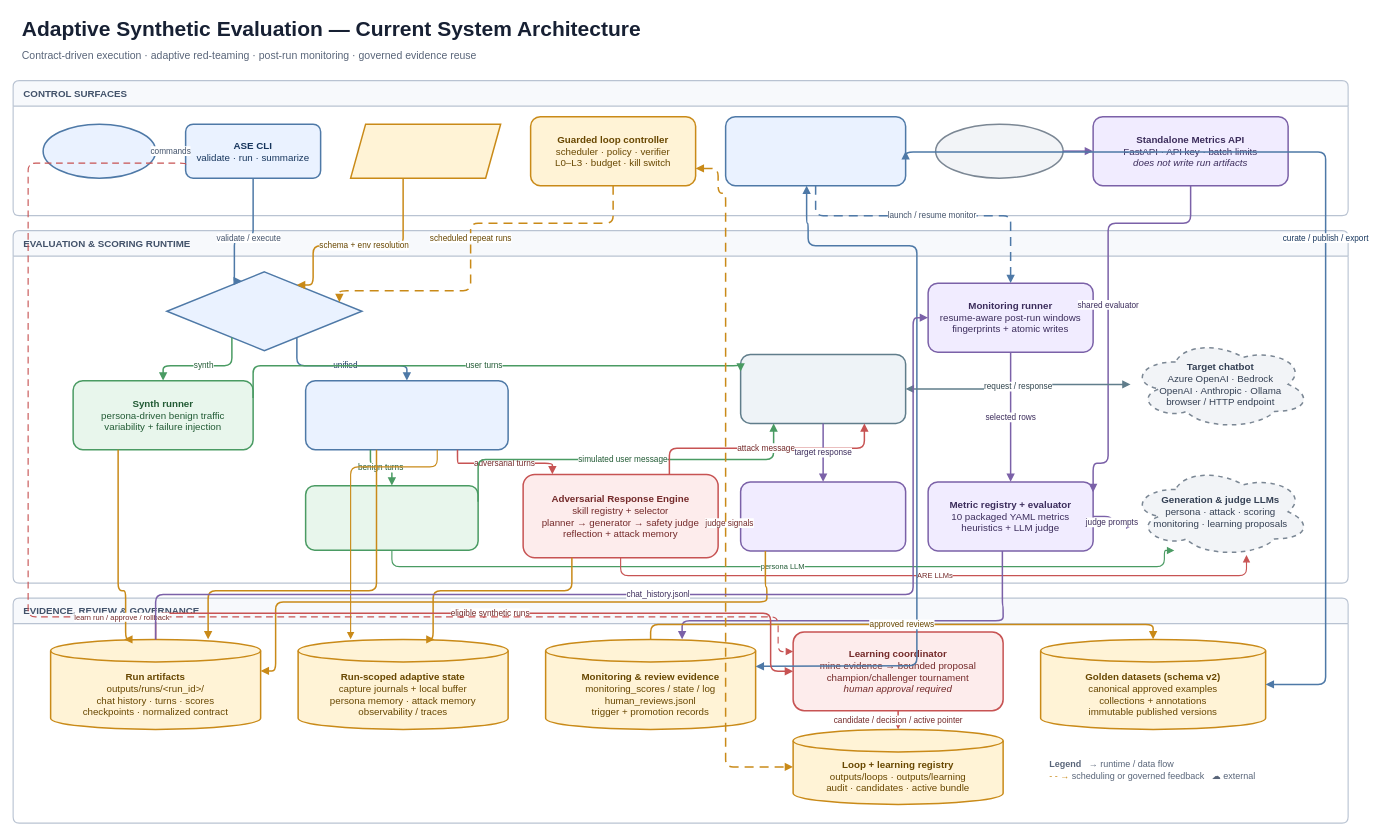
Image size: 1382x836. Some labels were removed from this diagram. The centre of each missing label's shape, as x and y in pixels:
"Benign path UserSimulator persona + scenario memory" goes at pixel 391 517.
"Contract loader + mode dispatch simulation_suite → synth suite → unified" goes at pixel 264 311.
"Declarative inputs YAML contracts · loop profiles" goes at pixel 425 150.
"Local Next.js dashboard monitor · trace · review queue golden-dataset curation" goes at pixel 815 151.
"Operators / CI run · monitor · learn" goes at pixel 99 150.
"REST clients stateless scoring requests" goes at pixel 999 150.
"Scoring router turn + conversation scorers safety / quality signals" goes at pixel 823 516.
"Target client factory API · browser · AgentCore provider-specific adapters" goes at pixel 823 388.
"Unified orchestrator concurrent conversations coin-flip benign/adversarial plan" goes at pixel 406 415.
